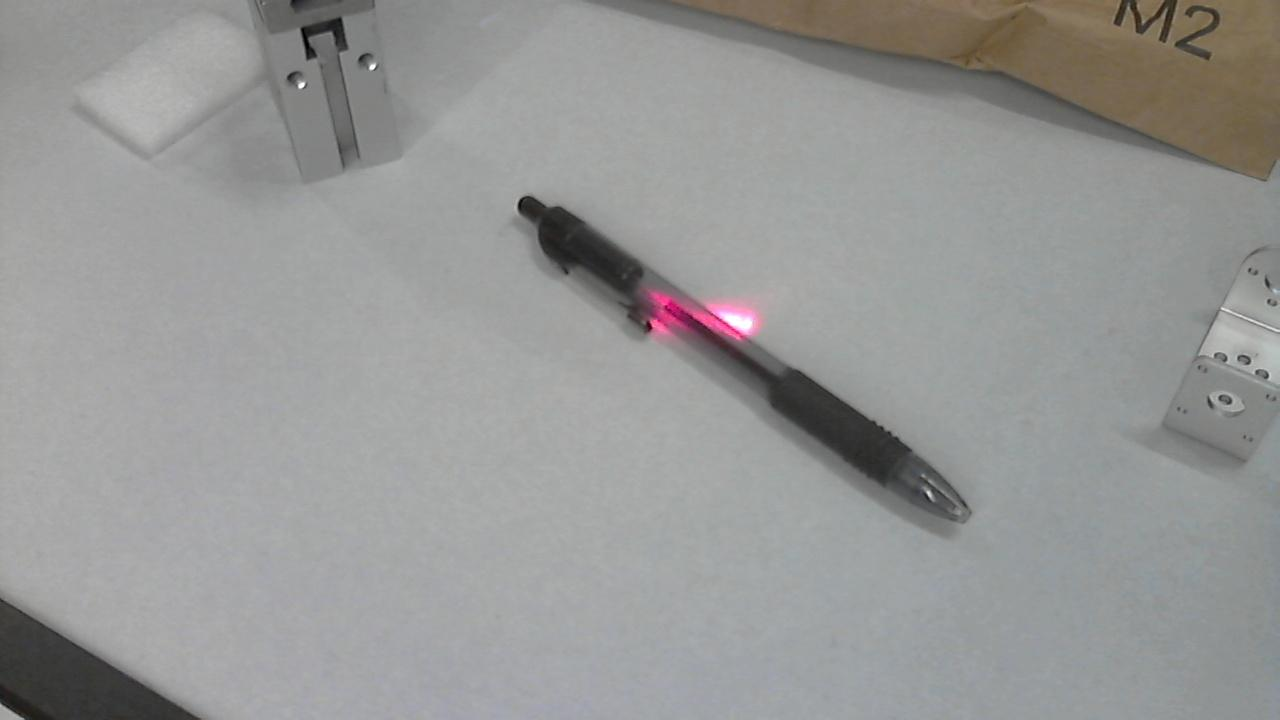Object retractable gel pen - Material plastic- Pdfname asdasdaswe: (611, 264, 711, 338)
